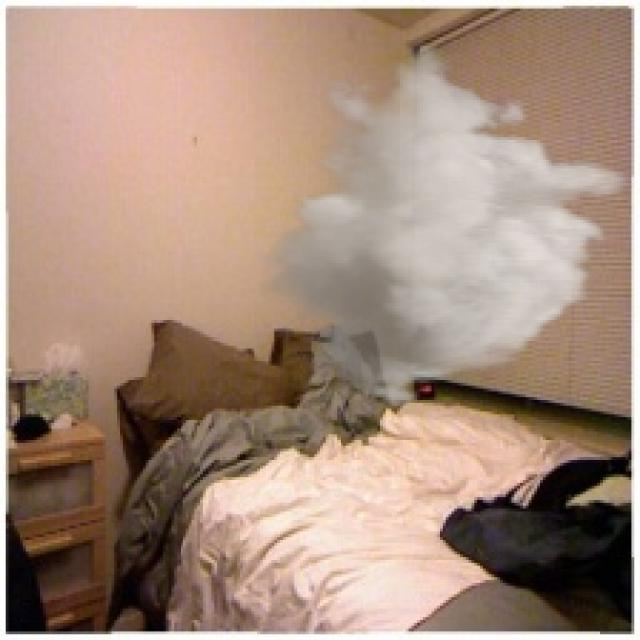smoke: (255, 43, 634, 411)
